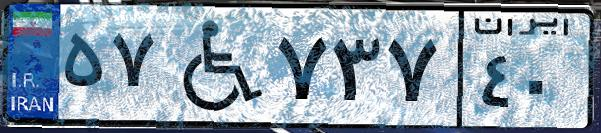0: (525, 38, 570, 115)
3: (330, 28, 385, 110)
4: (475, 38, 525, 113)
5: (57, 26, 110, 100)
7: (270, 28, 330, 110), (385, 28, 445, 110), (110, 28, 158, 98)
ژ (معلولین و جانبازان): (158, 12, 270, 120)
